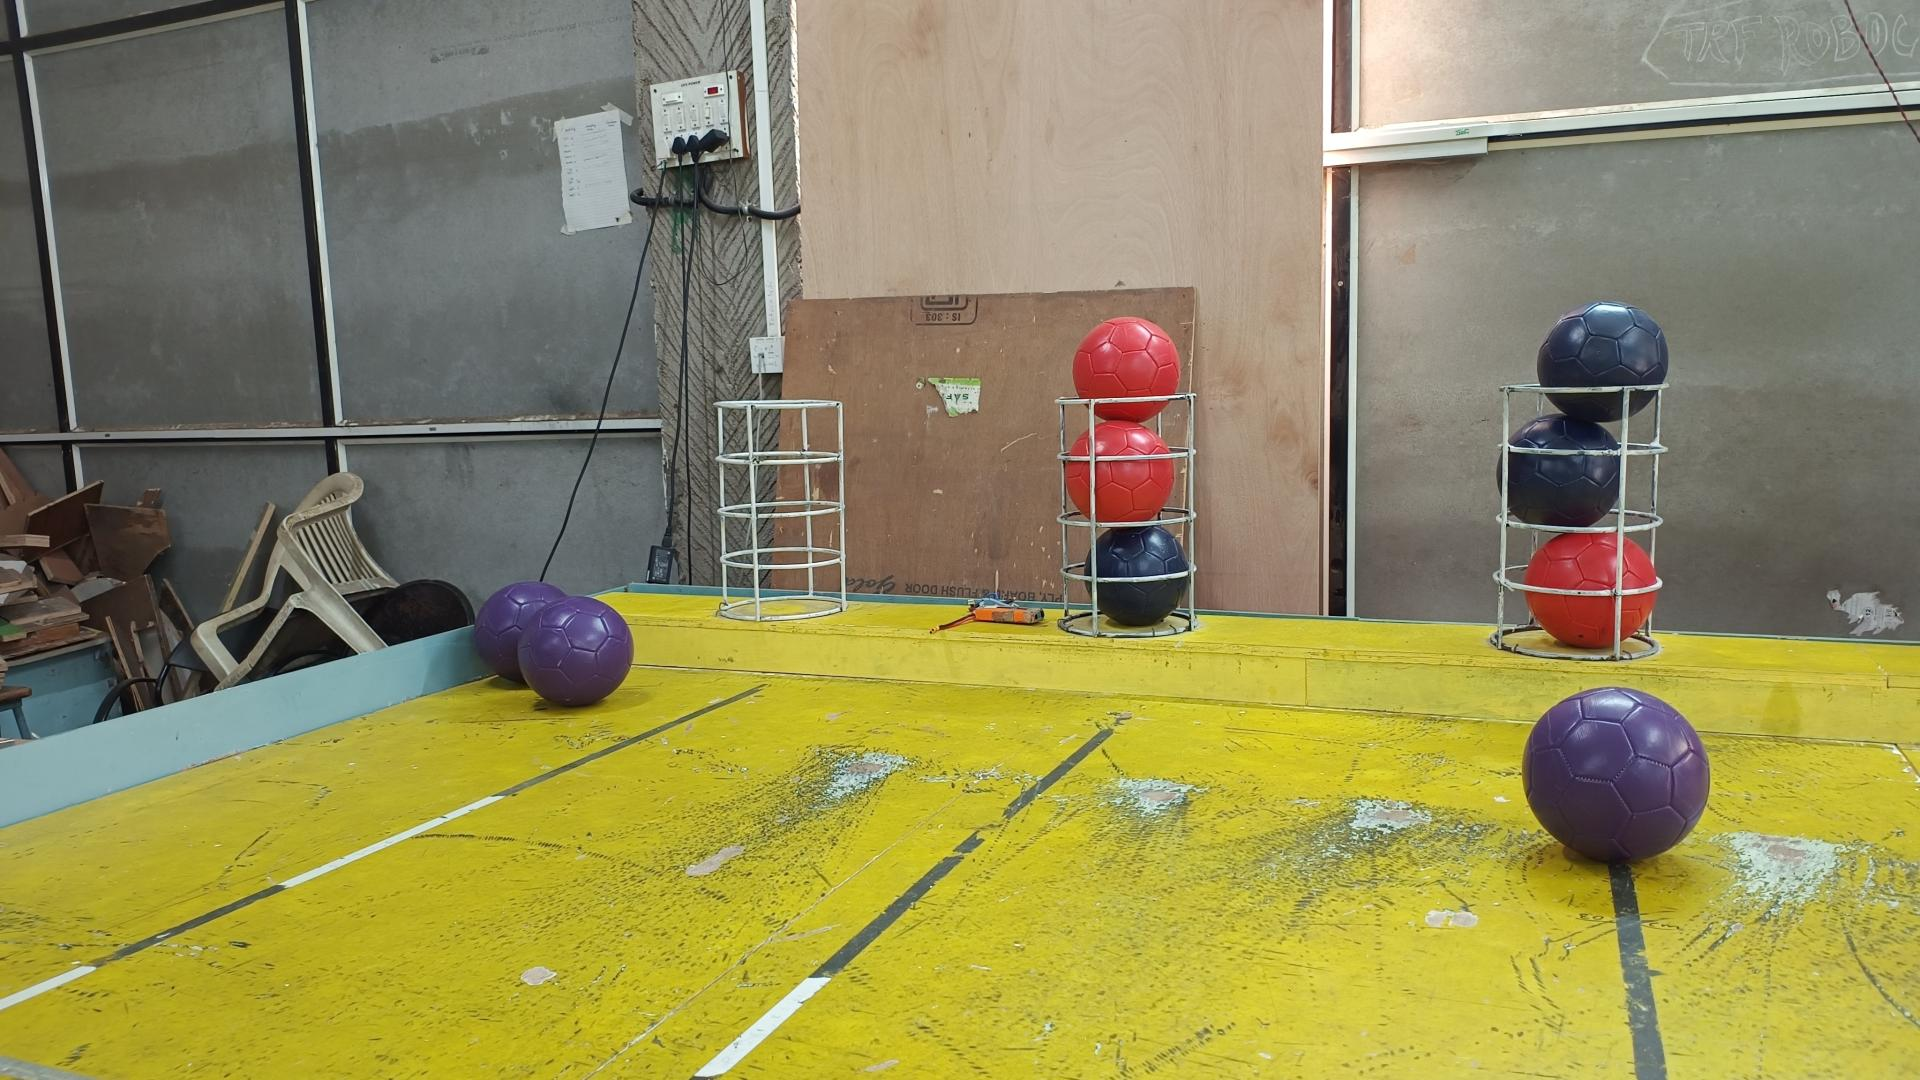dhoka: (1536, 302, 1668, 422), (1498, 413, 1622, 525), (1084, 525, 1189, 626)
laale: (1522, 530, 1656, 650), (1064, 422, 1178, 524), (1072, 318, 1180, 422)
